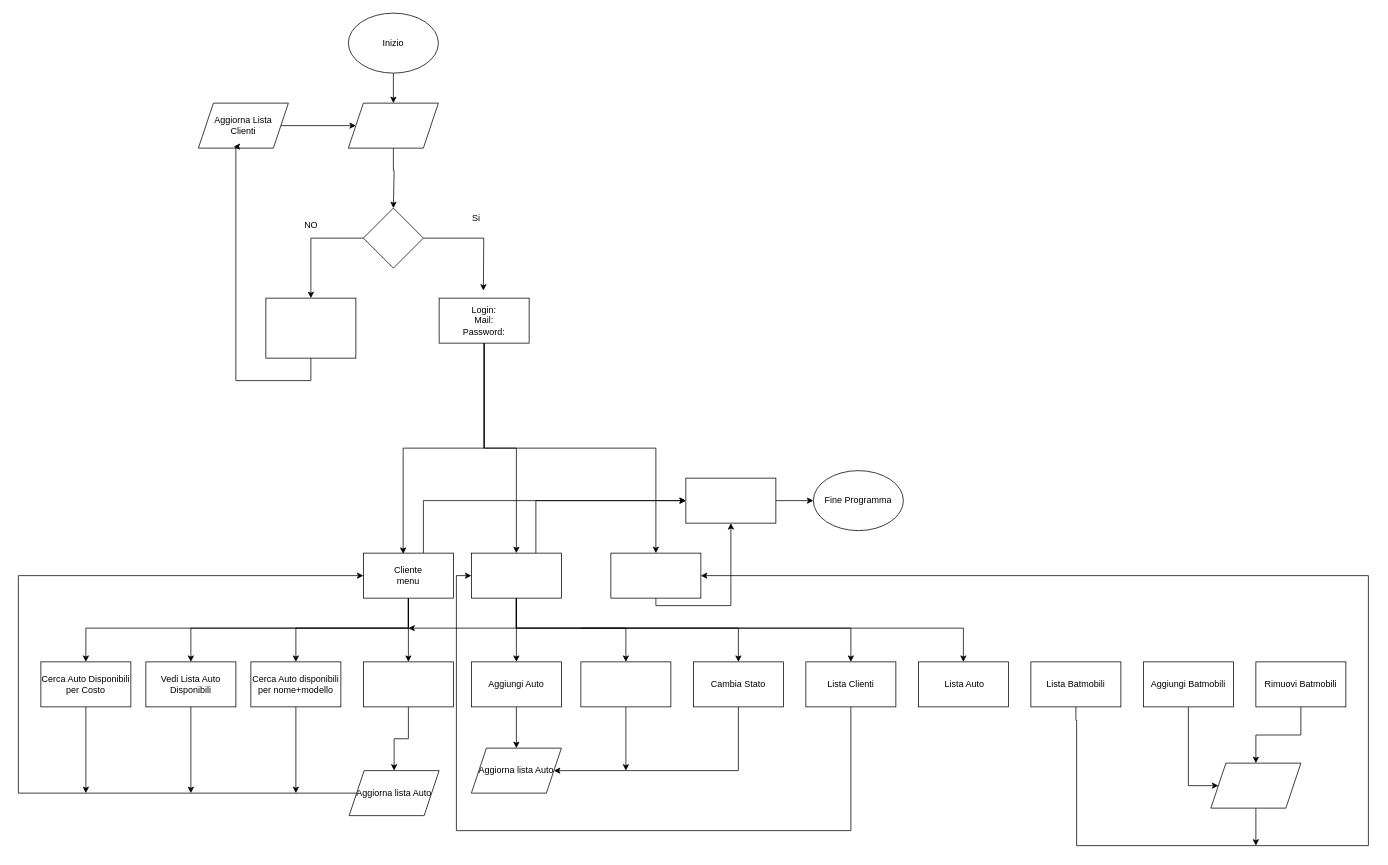
The diagram is 1388 pixels wide and 865 high, and some of its shapes have lost their labels. Each missing label, with the centre of its shape:
Aggiorna lista Batmobili: the point at 1255,785
BATMAN menu: the point at 655,575
Carica liste: the point at 393,125
Esci: the point at 730,500
Manager menu: the point at 516,575
Noleggia Auto: the point at 408,684
Registrazione: Nome Cognome Mail (Key Password: the point at 310,327
Rimuovi Auto: the point at 625,684
Sei registrato?: the point at 393,237
